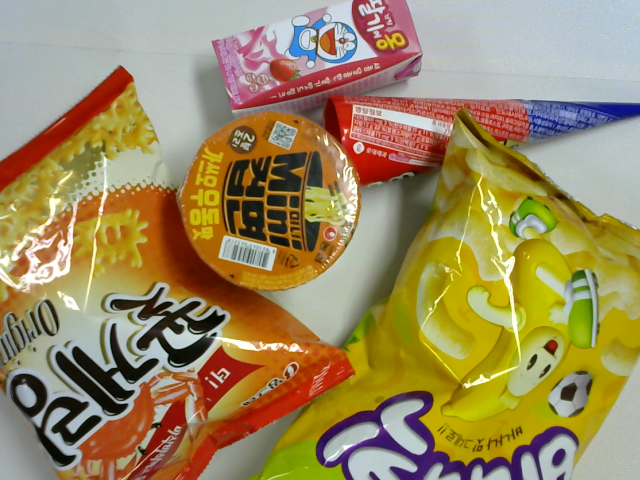Bravo_Cone_(Banila)_CVS: (258, 114, 640, 480)
Crabrang: (1, 72, 340, 480)
Strawberry_E_Mong: (213, 1, 428, 119)
Udongmini: (178, 109, 360, 290)
World_Cone_Banila: (322, 91, 640, 188)
